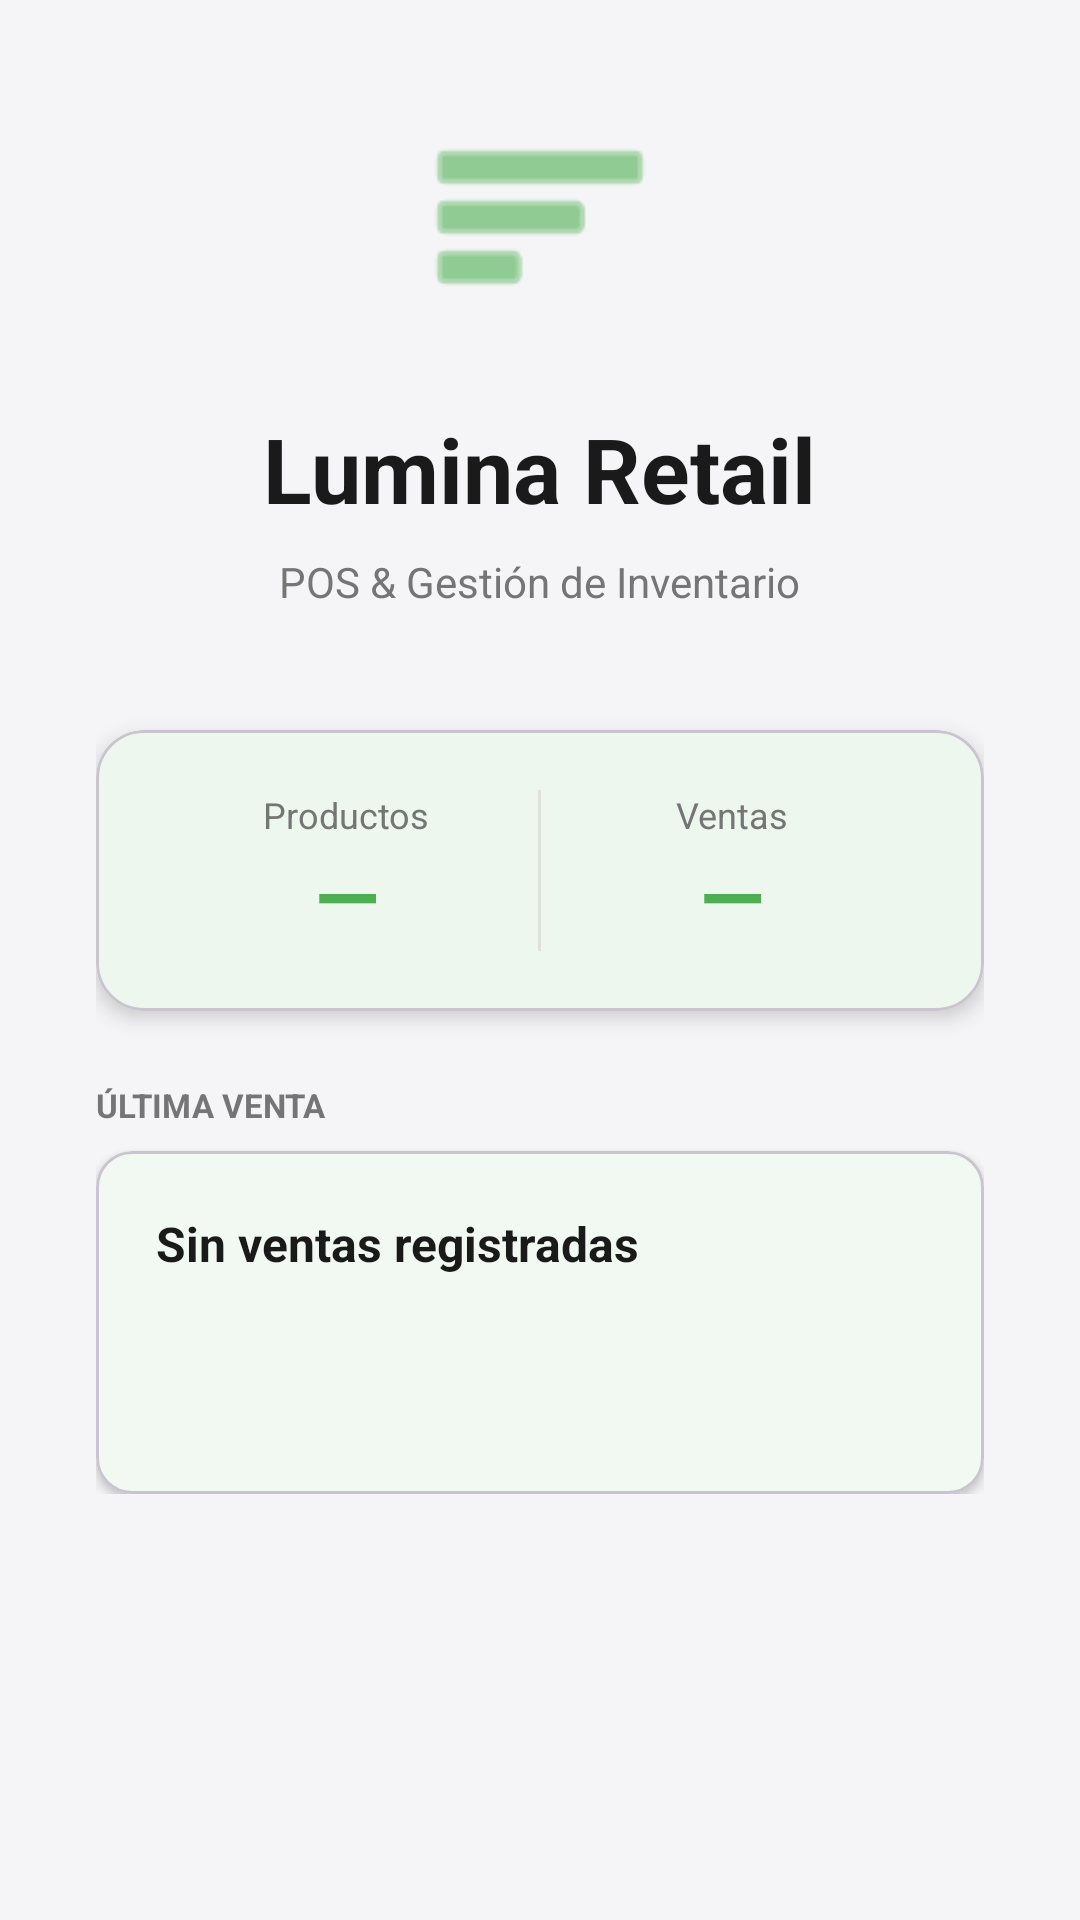

Named icons in this screenshot (1080 x 1920) and their bounding boxes, {"x1": x1, "y1": y1, "x2": x2, "y2": y2}:
sort by size: {"x1": 437, "y1": 150, "x2": 643, "y2": 284}
